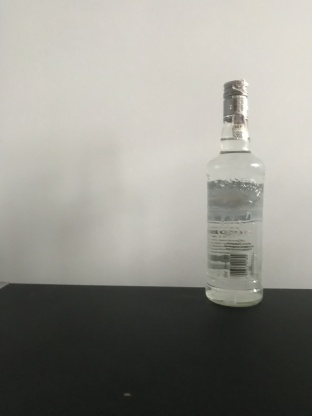nakretka: (221, 76, 250, 123)
